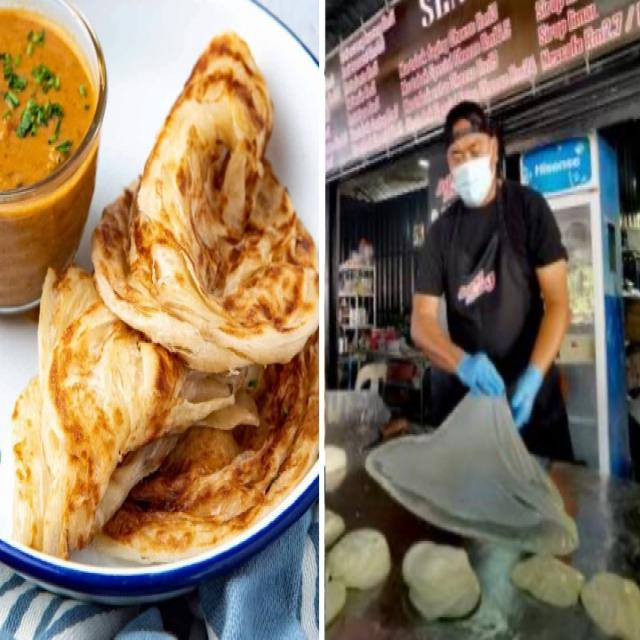Paratha: (102, 51, 316, 343), (100, 348, 330, 559), (32, 272, 228, 502)
